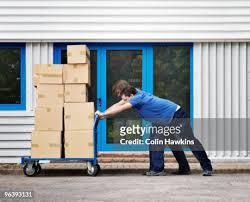Boxes: (65, 105, 95, 131), (31, 131, 62, 156), (35, 105, 63, 131), (65, 133, 94, 158), (32, 62, 62, 84), (65, 65, 90, 85), (36, 86, 65, 103), (66, 45, 88, 64), (66, 86, 88, 103)
